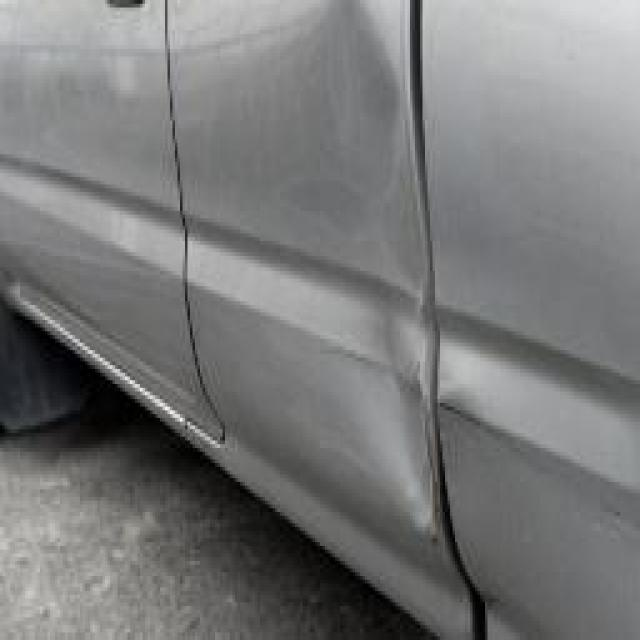Door: (172, 4, 478, 632)
